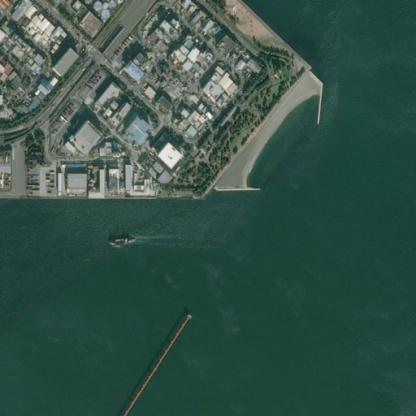ship: (105, 236, 128, 247)
